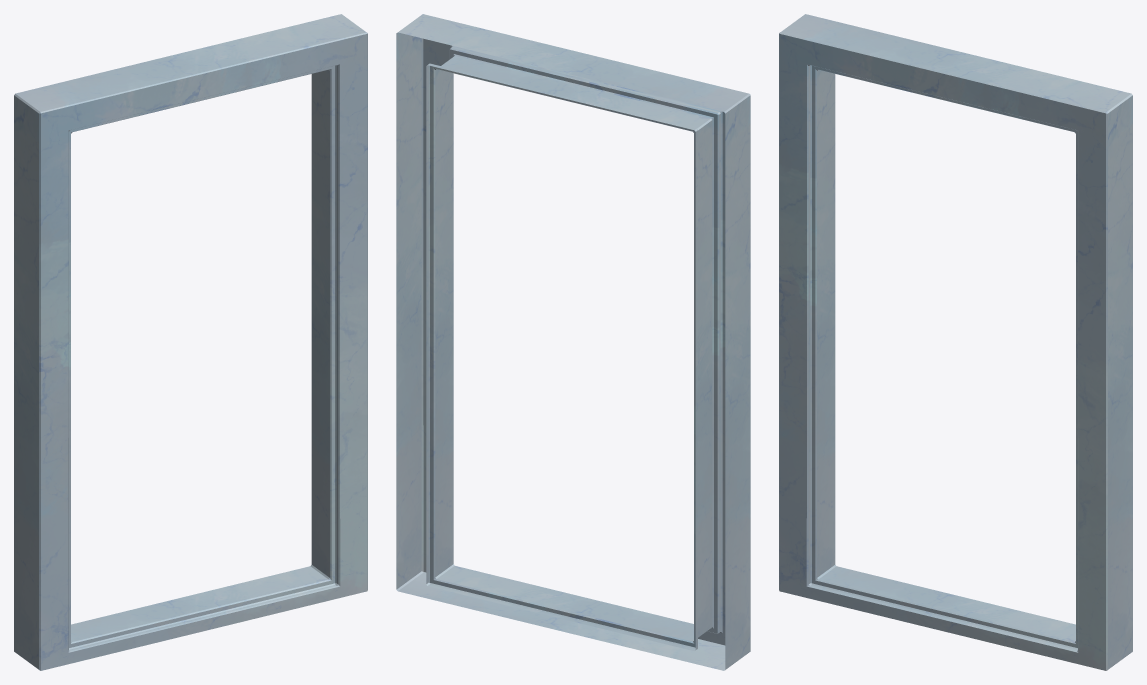
Rendered from Door frame 2.fbx.
3 renders of one model, left to right at view 1: azimuth 30°, elevation 25°; view 2: azimuth 150°, elevation 25°; view 3: azimuth 330°, elevation 25°, orthographic.
Visible parts, largest first — view 1: Door frame 2; view 2: Door frame 2; view 3: Door frame 2.
Boxes of the visible parts, x1,y1,x2,y2 form: Door frame 2: [14, 14, 367, 670]; Door frame 2: [396, 14, 750, 670]; Door frame 2: [779, 14, 1132, 670].
Size of the model in its own units: 130 by 212 by 17.76.
